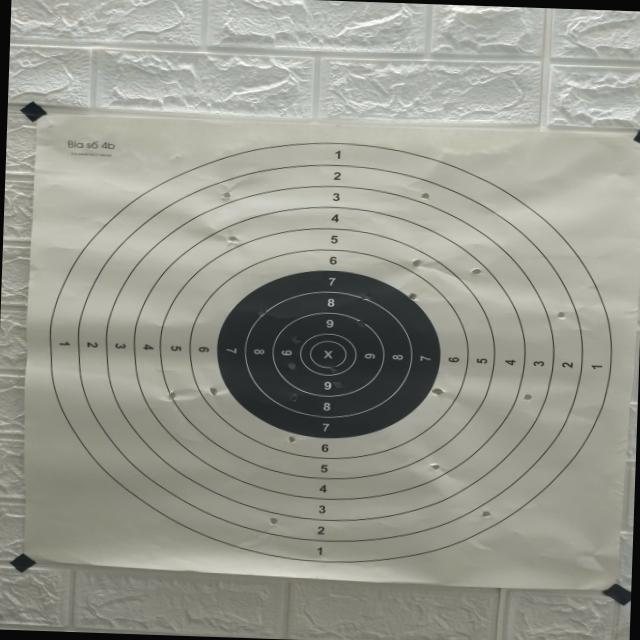bullet: (430, 387, 445, 395), (226, 235, 239, 244), (481, 510, 492, 518), (411, 259, 421, 267), (289, 394, 299, 402), (429, 462, 439, 470), (329, 365, 338, 373), (287, 362, 296, 370), (408, 292, 416, 300), (269, 517, 277, 525), (420, 192, 429, 199), (557, 312, 566, 319), (291, 336, 300, 343), (333, 381, 342, 388), (470, 268, 480, 274), (210, 387, 217, 395), (168, 391, 175, 399), (221, 192, 230, 198), (359, 293, 368, 299), (523, 394, 532, 400), (356, 320, 364, 326), (287, 436, 295, 442), (258, 310, 265, 316)
target: (25, 115, 640, 590)
